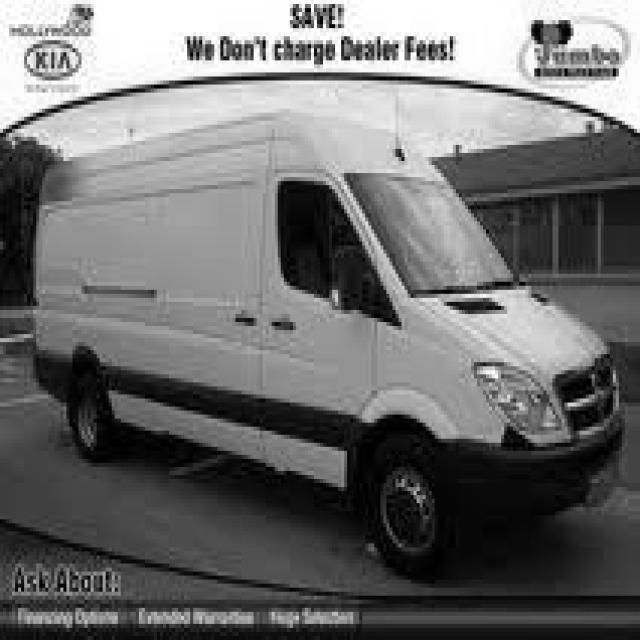car: (27, 104, 625, 576)
